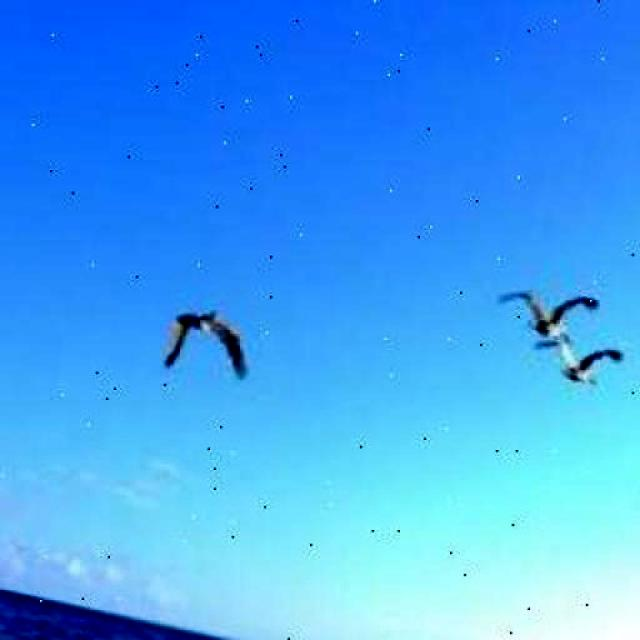airplane: (164, 302, 260, 386), (491, 278, 598, 349), (528, 332, 626, 391)
